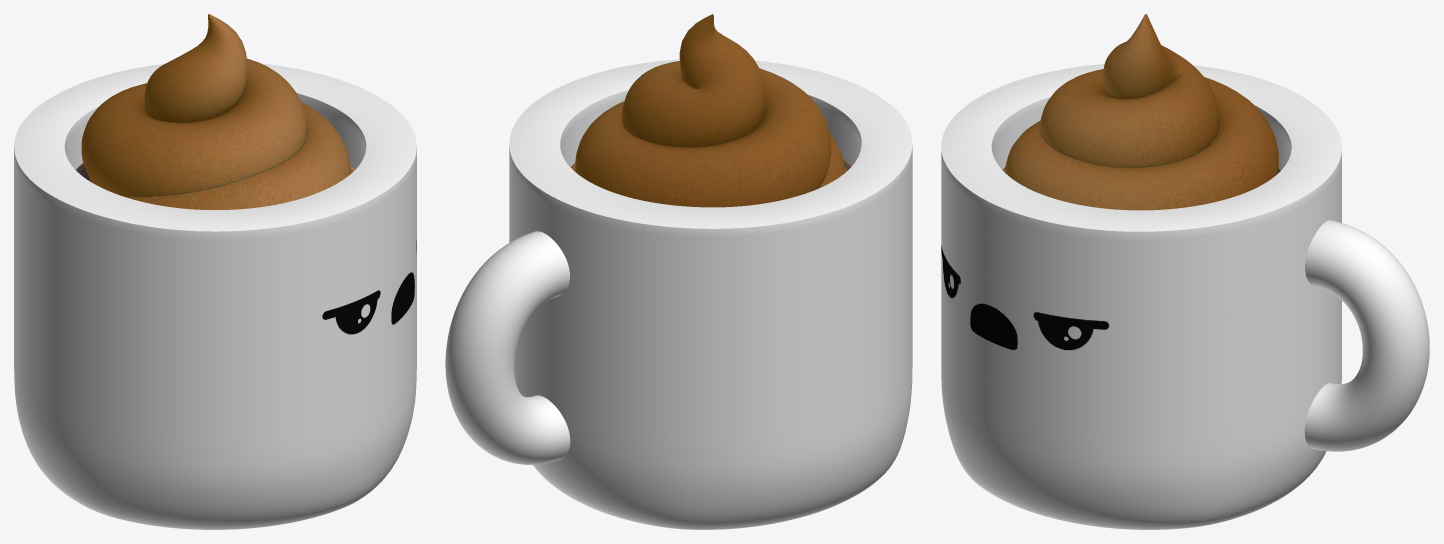
File: shit_cute_coffee_cup.glb
3 views of the same model, side by side, from view 1: azimuth 30°, elevation 25°; view 2: azimuth 150°, elevation 25°; view 3: azimuth 270°, elevation 25° (orthographic).
Visible parts, largest first — view 1: Spiral.001_0.004; view 2: Spiral.001_0.004; view 3: Spiral.001_0.004.
Part boxes in pixels (<box>): Spiral.001_0.004: <box>14,14,416,529</box>; Spiral.001_0.004: <box>445,14,912,529</box>; Spiral.001_0.004: <box>941,14,1429,529</box>.
Size of the model in its own units: 0.6666 by 0.8464 by 0.8125.
Materials: 4 (3 with a texture image).
